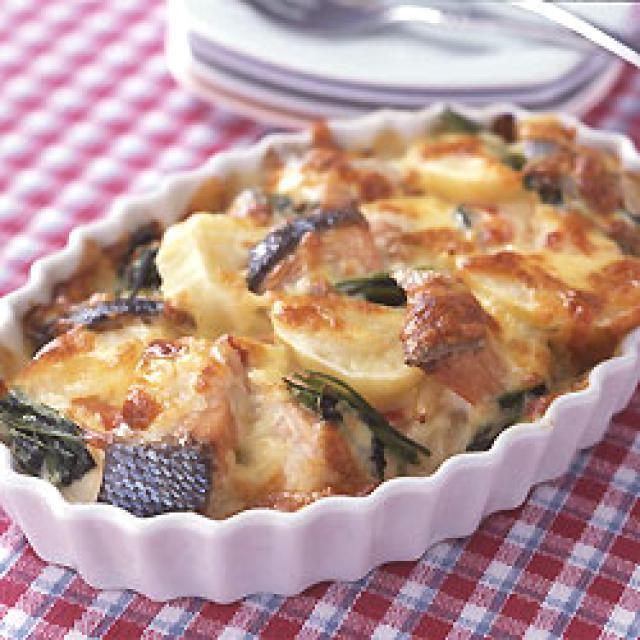gratin: (0, 99, 638, 564)
